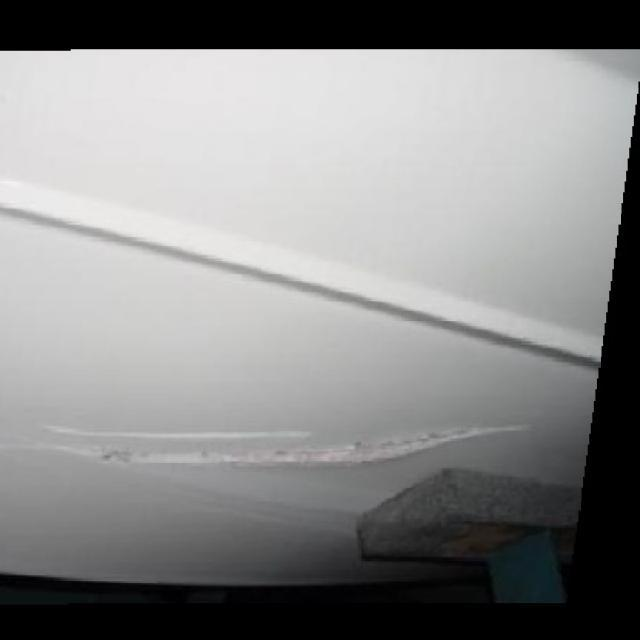crack: (49, 427, 534, 467)
